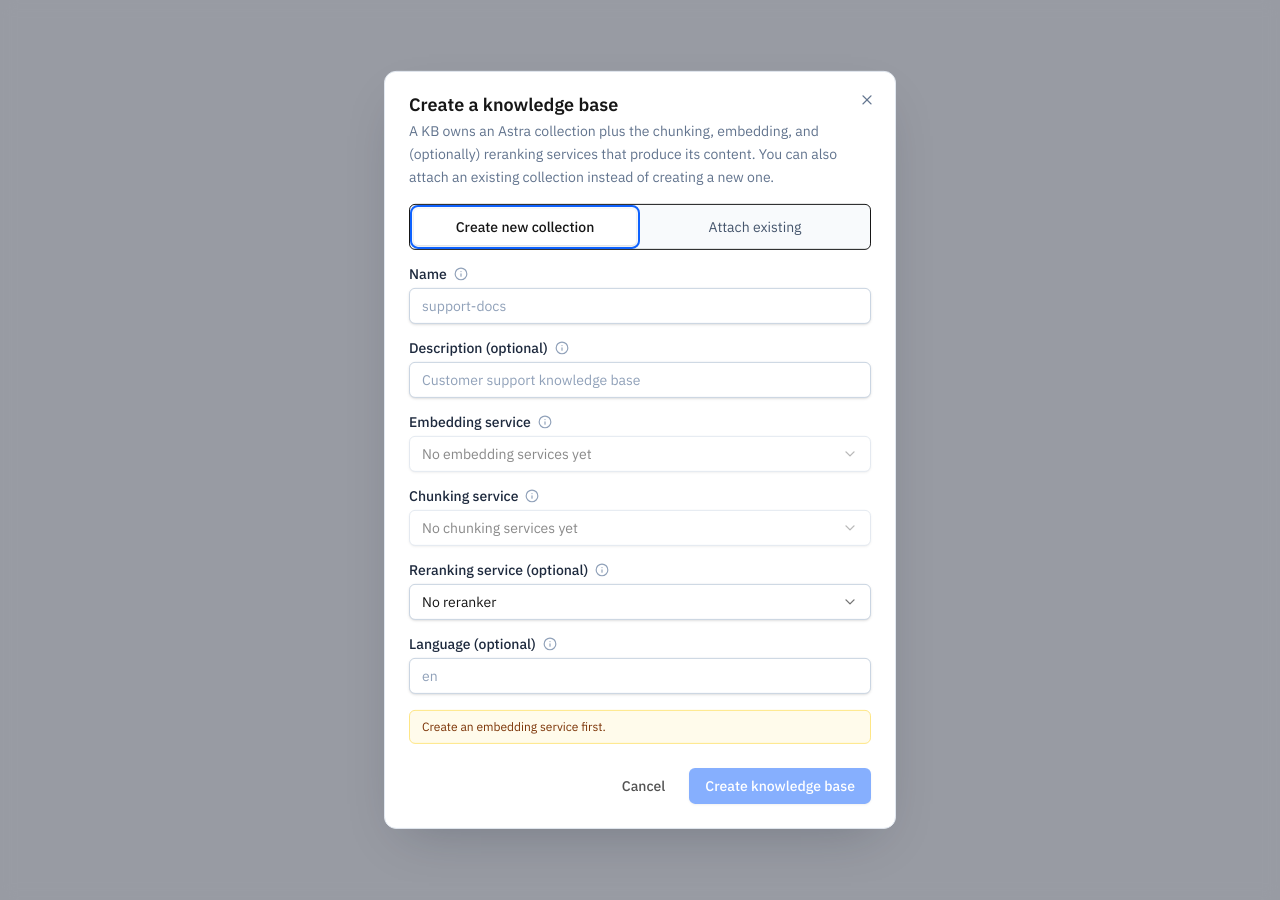
Scenario: CreateKnowledgeBaseDialog › warns the user when no unattached collections are available in attach mode
Click the tab "Attach existing" at (755, 227), box [644, 209, 866, 245]
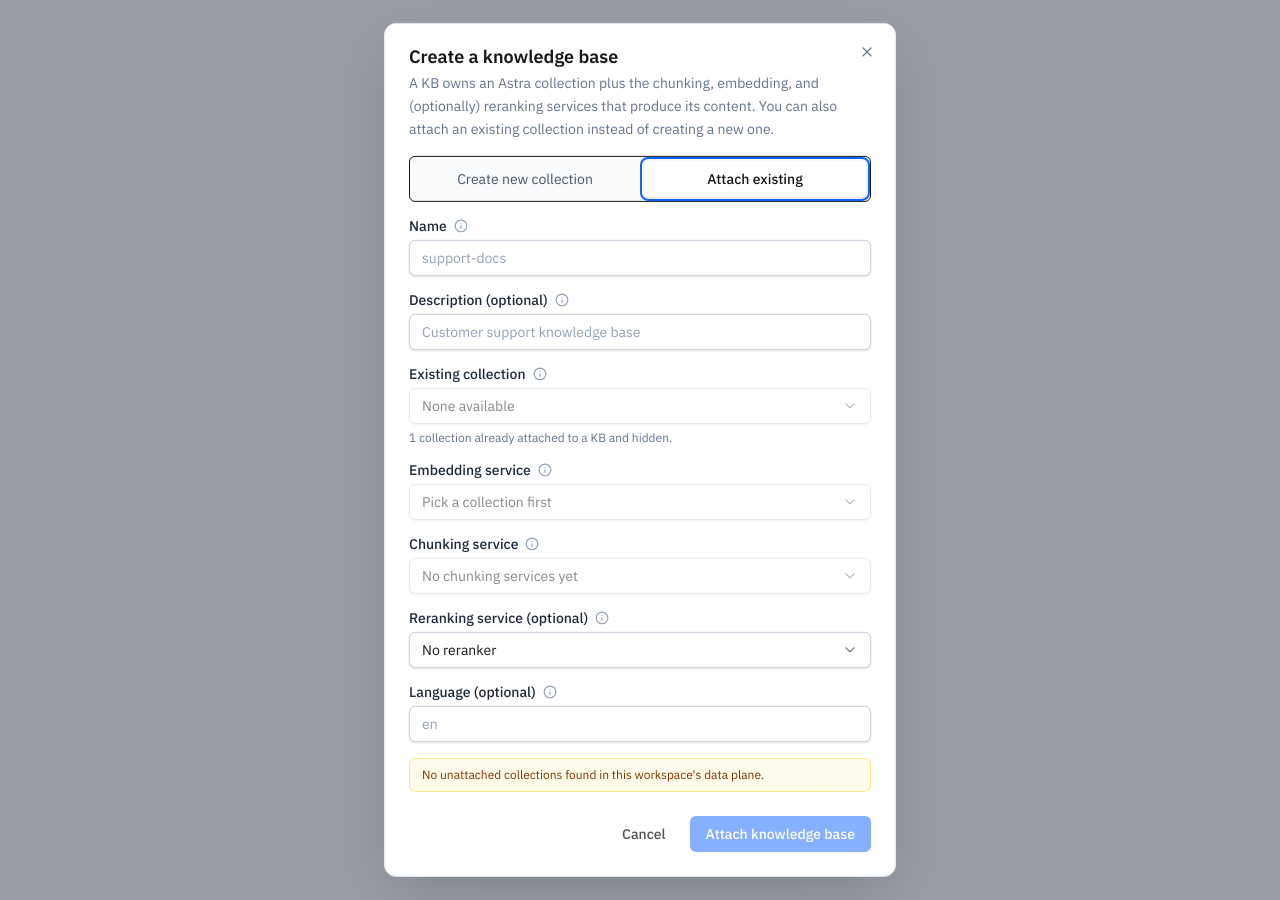
Expected: the button "Attach knowledge base" is disabled, [690, 816, 871, 852]
Now the text "No unattached collections found" is shown, box [422, 767, 761, 782]
